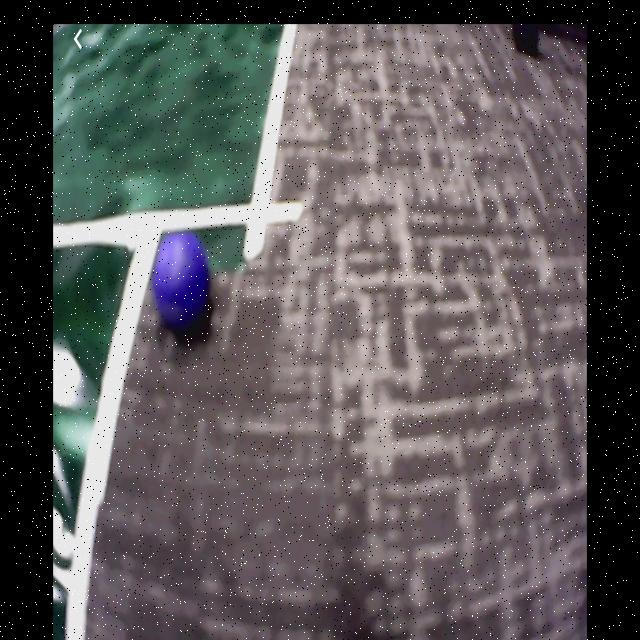ball: (154, 234, 212, 334)
